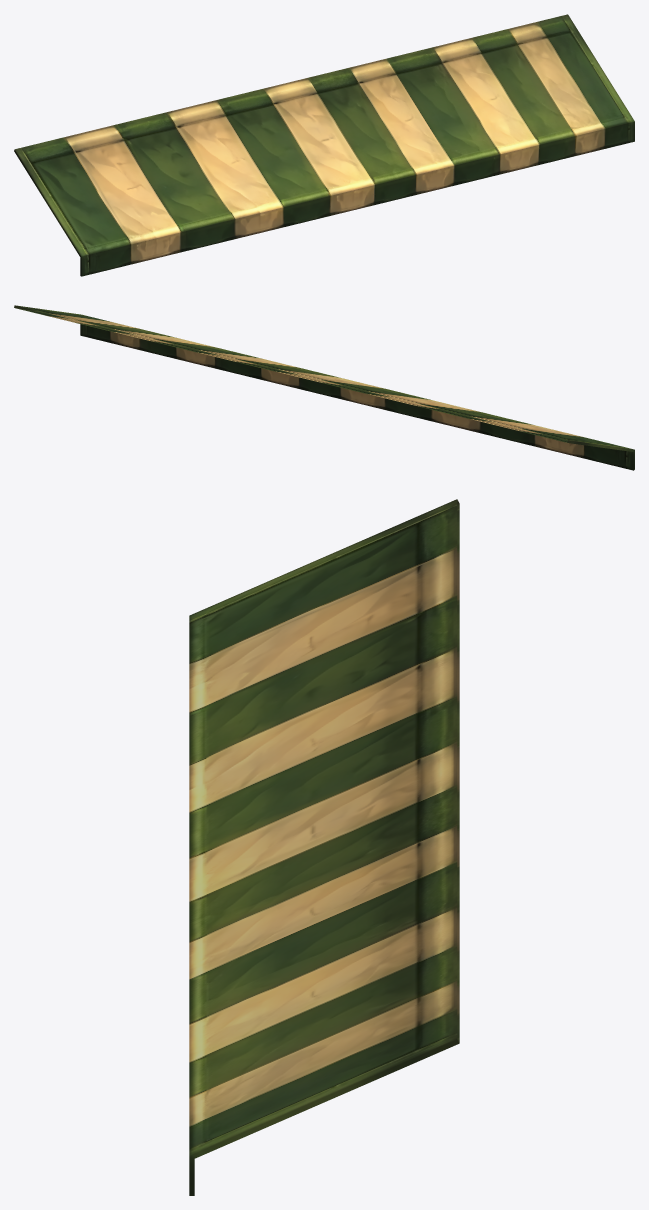
File: BRK_Awning6.fbx
3 views of the same model, one above another, from view 1: azimuth 30°, elevation 25°; view 2: azimuth 150°, elevation 25°; view 3: azimuth 270°, elevation 25° (orthographic). The views are drawn at different scales.
Parts seen in each view (by area): view 1: BRK_Awning6; view 2: BRK_Awning6; view 3: BRK_Awning6.
Boxes of the visible parts, left/top/right/bottom form: BRK_Awning6: left=14, top=14, right=634, bottom=276; BRK_Awning6: left=14, top=305, right=634, bottom=470; BRK_Awning6: left=189, top=499, right=459, bottom=1195.
Bounding box in the file's own units: 6 × 1.27 × 0.8113.
1 material, 1 textured.
